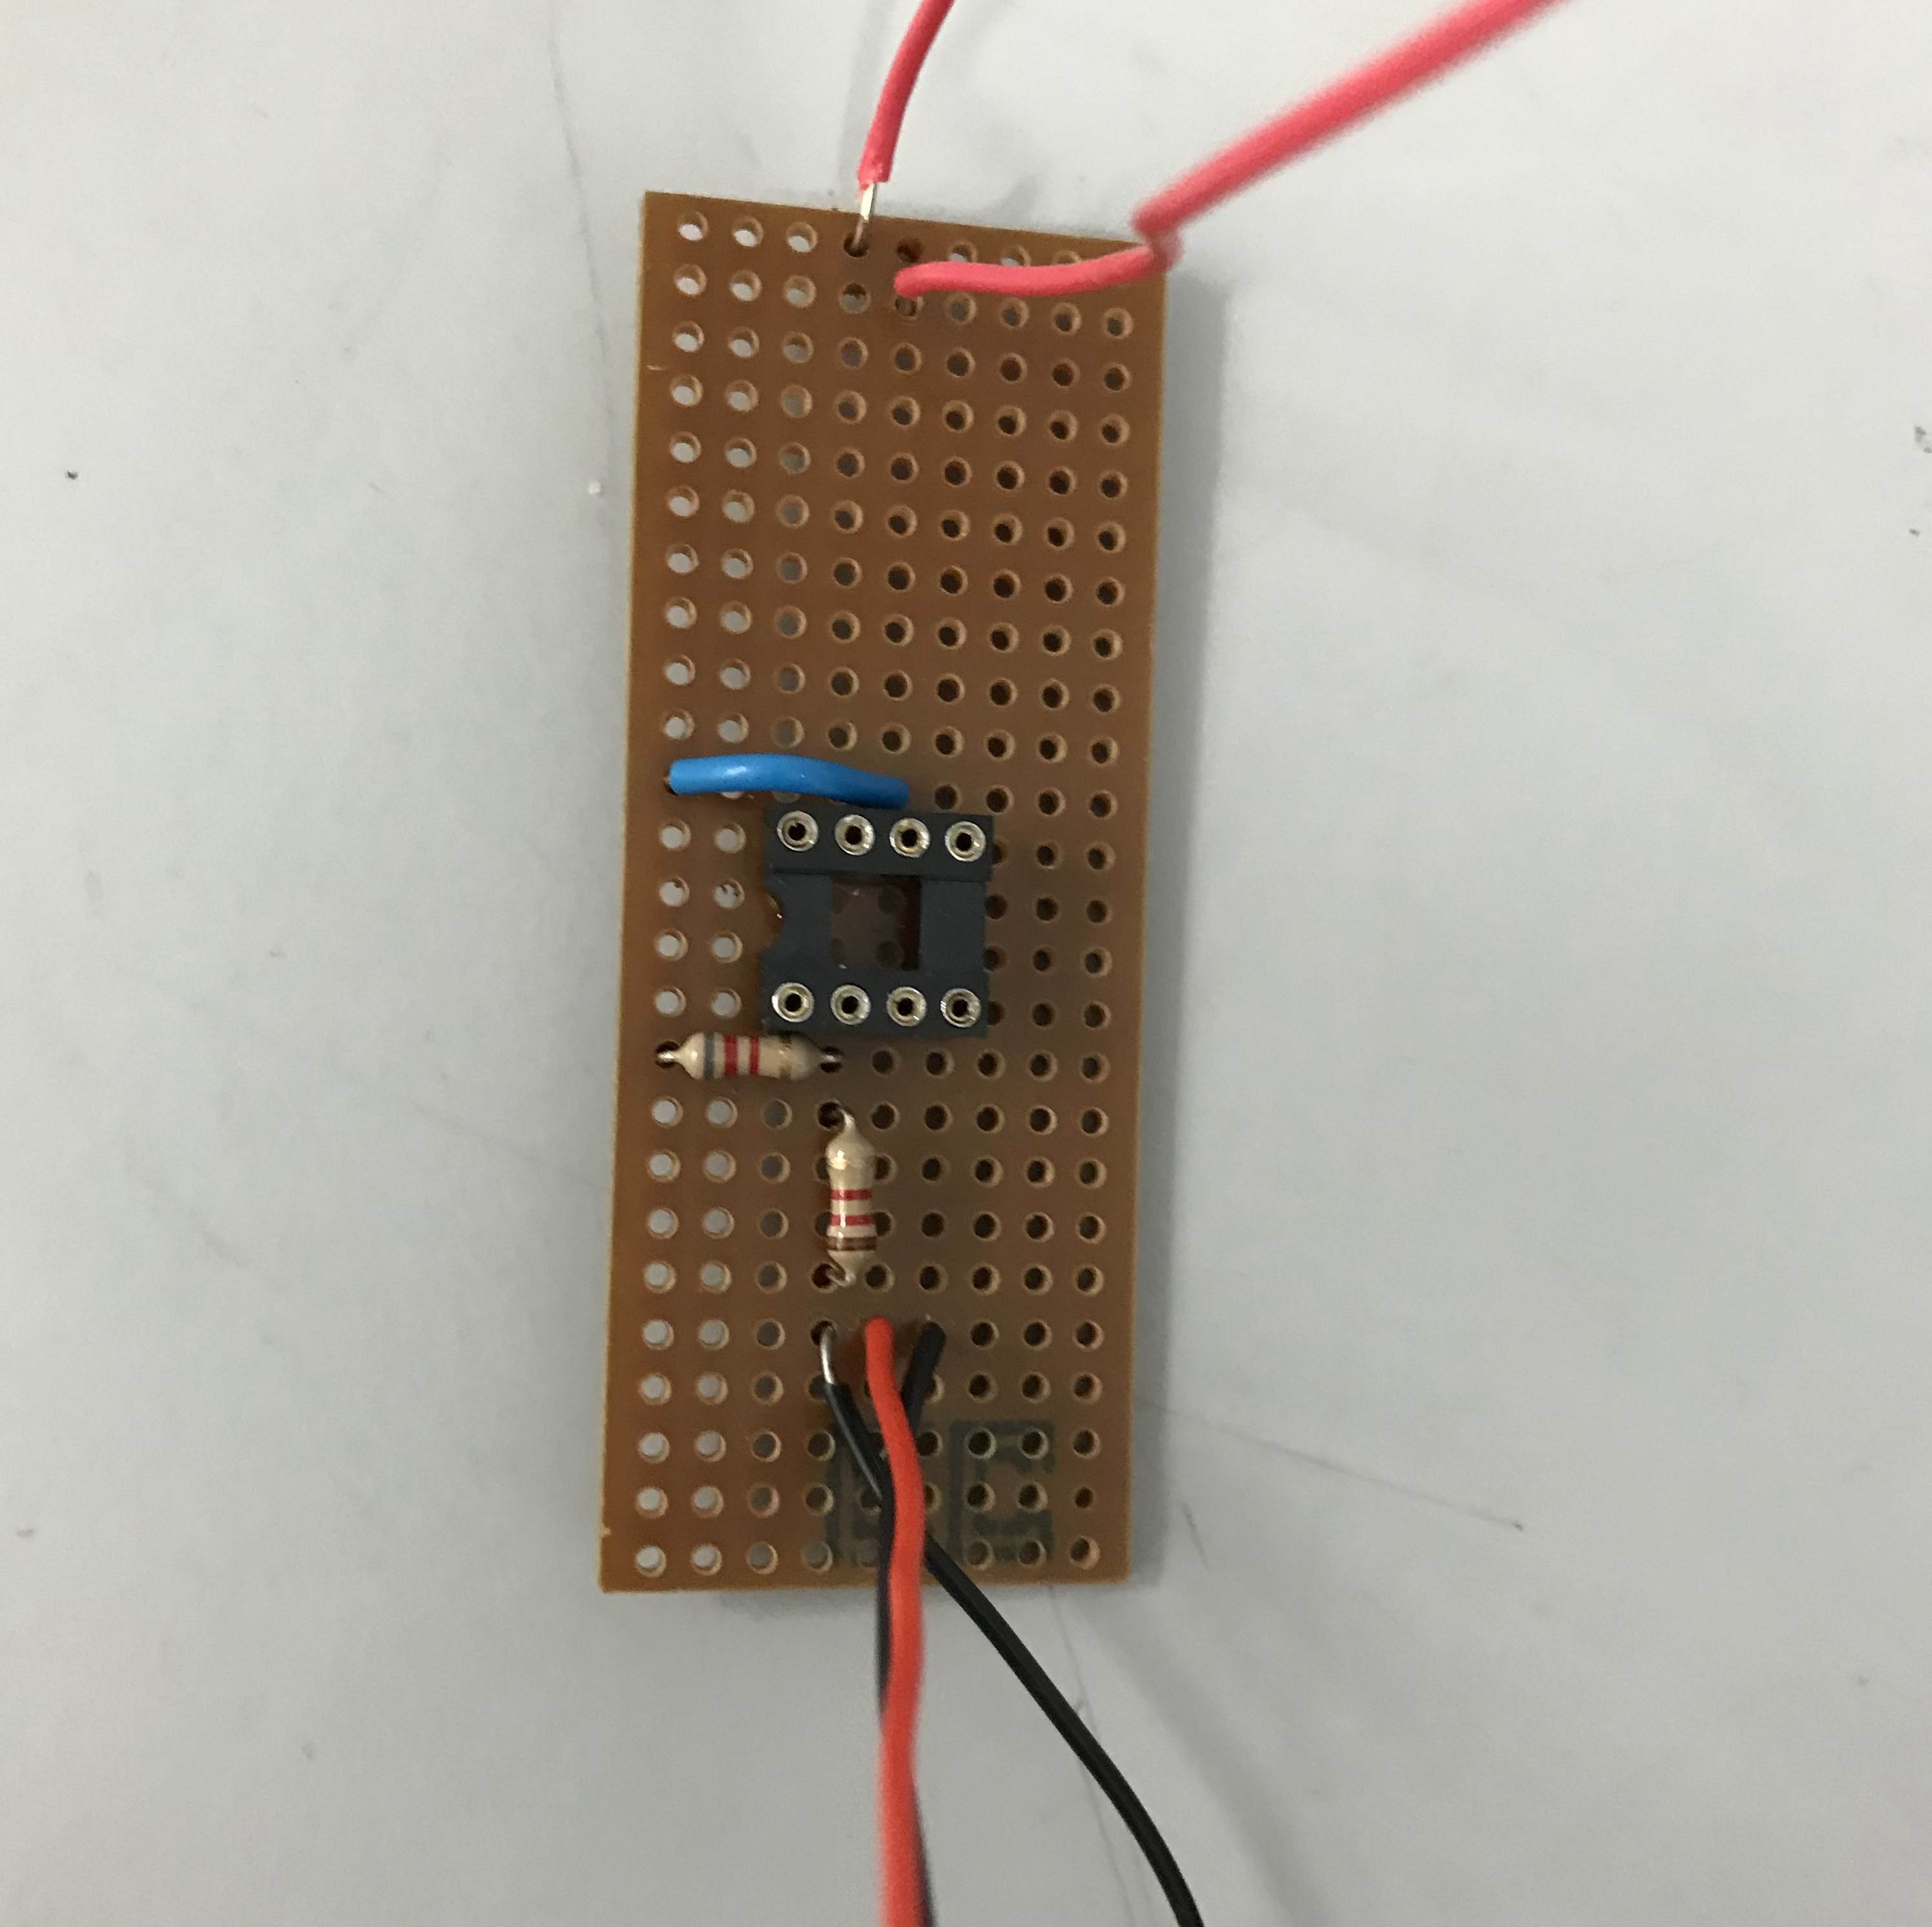Resistor: (669, 1022, 831, 1091), (815, 1122, 886, 1279)
